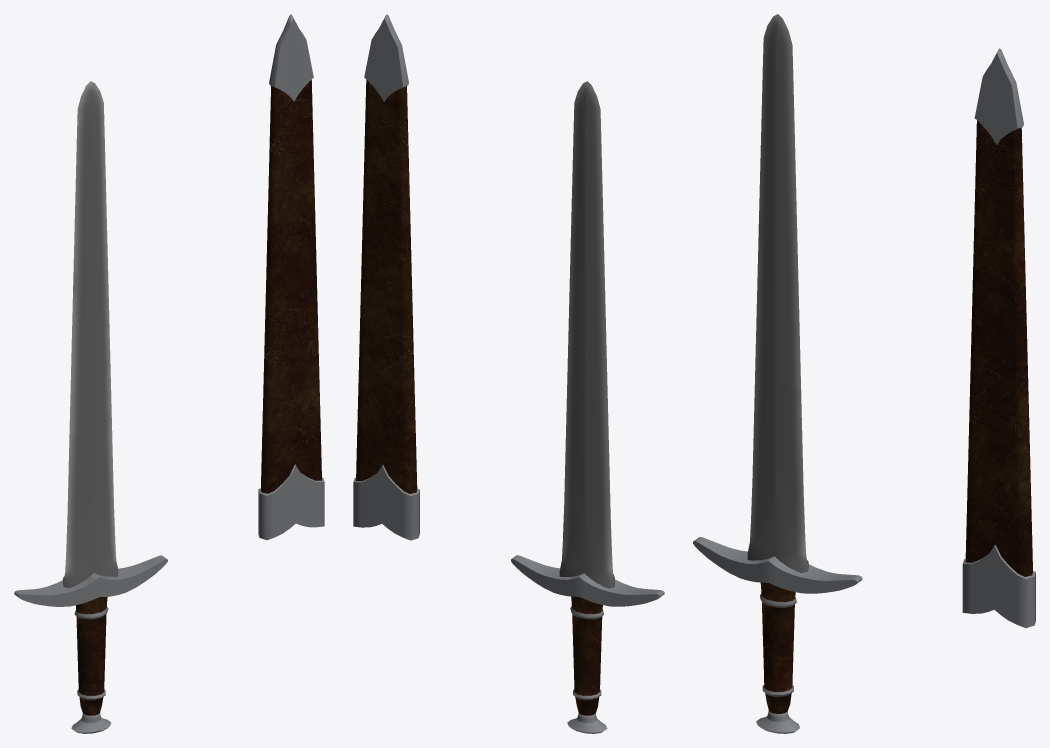
File: Short_Sword.fbx
3 renders of one model, left to right at view 1: azimuth 30°, elevation 25°; view 2: azimuth 150°, elevation 25°; view 3: azimuth 330°, elevation 25°, orthographic. The views are drawn at different scales.
Parts seen in each view (by area): view 1: Sheath, Short_Sword; view 2: Sheath, Short_Sword; view 3: Sheath, Short_Sword.
Part boxes in pixels (x1,y1,x2,y2): Sheath: [258, 14, 324, 540]; Short_Sword: [14, 81, 167, 733]; Sheath: [353, 14, 419, 540]; Short_Sword: [511, 81, 664, 733]; Sheath: [962, 48, 1035, 628]; Short_Sword: [693, 14, 862, 733].
Bounding box in the file's own units: 239 × 496 × 23.23.
Materials: 1 (1 with a texture image).
